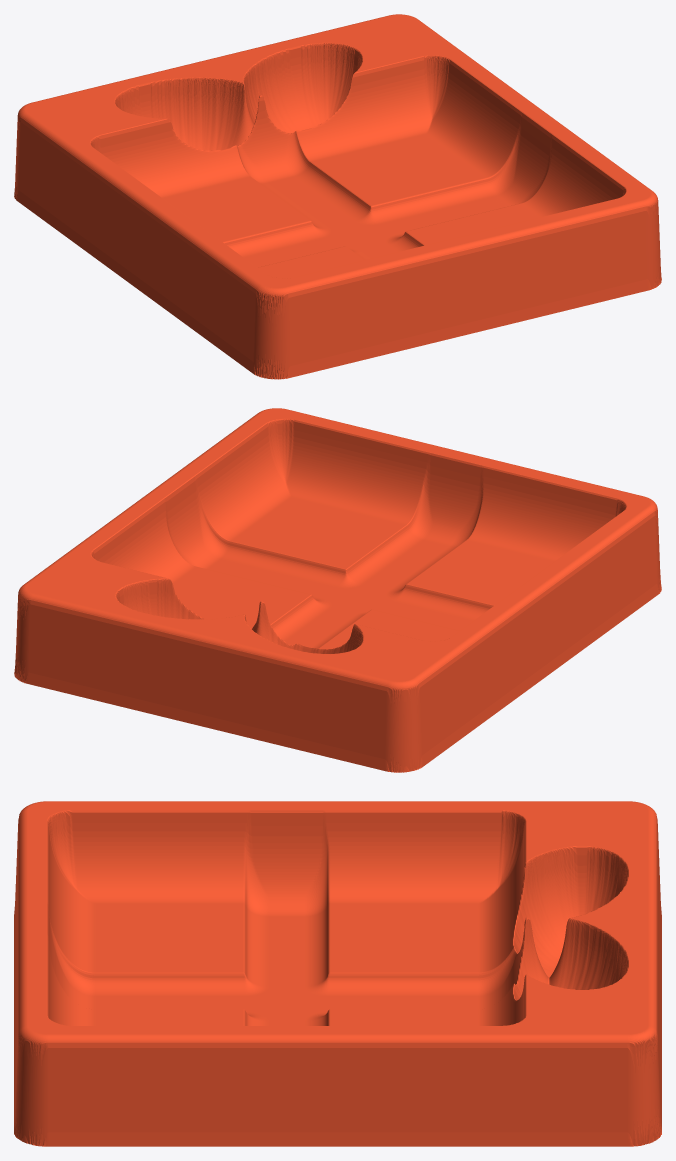
The model's file is mold.glb.
3 renders of one model, top to bottom at view 1: azimuth 30°, elevation 25°; view 2: azimuth 150°, elevation 25°; view 3: azimuth 270°, elevation 25°, orthographic. The views are drawn at different scales.
Parts seen in each view (by area): view 1: geometry_0; view 2: geometry_0; view 3: geometry_0.
Part boxes in pixels (x1,y1,x2,y2): geometry_0: [14, 14, 661, 379]; geometry_0: [14, 408, 661, 772]; geometry_0: [14, 801, 661, 1146].
Bounding box in the file's own units: 0.1522 × 0.031 × 0.1709.
